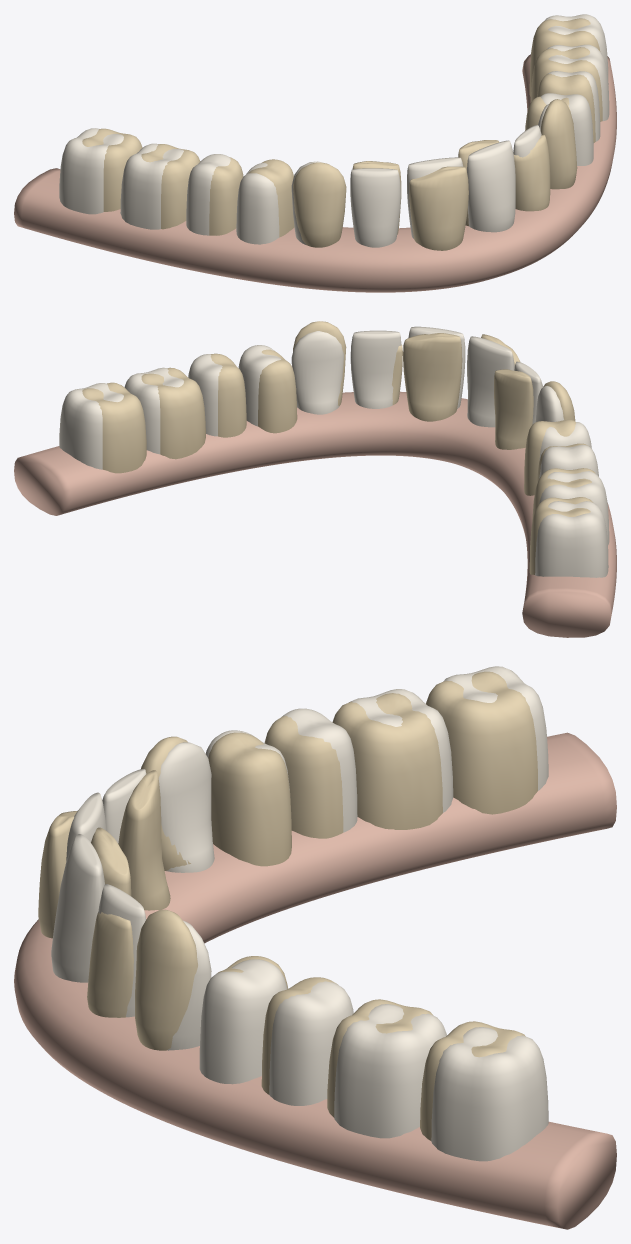
Rendered from arch.glb.
3 views of the same model, one above another, from view 1: azimuth 30°, elevation 25°; view 2: azimuth 150°, elevation 25°; view 3: azimuth 270°, elevation 25° (orthographic). The views are drawn at different scales.
Visible parts, largest first — view 1: archBefore, archAfter; view 2: archBefore, archAfter; view 3: archBefore, archAfter.
Boxes of the visible parts, left/top/right/bottom form: archBefore: left=14, top=18, right=616, bottom=292; archAfter: left=59, top=14, right=609, bottom=247; archBefore: left=14, top=321, right=616, bottom=637; archAfter: left=59, top=326, right=609, bottom=577; archBefore: left=14, top=671, right=616, bottom=1229; archAfter: left=51, top=666, right=548, bottom=1161.
Size of the model in its own units: 3.33 by 0.6686 by 1.87.
